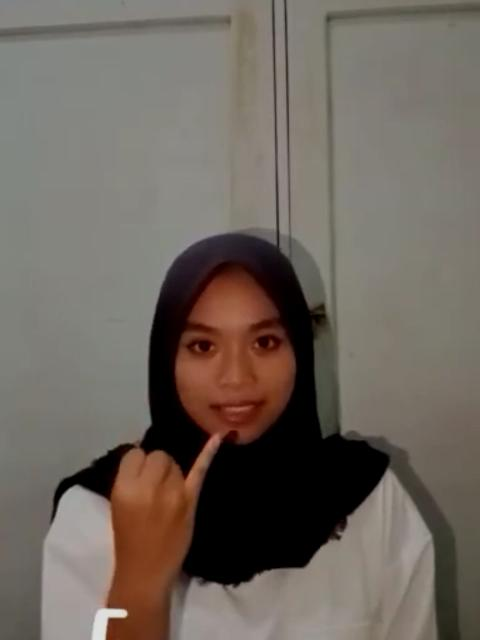J: (106, 422, 228, 574)
